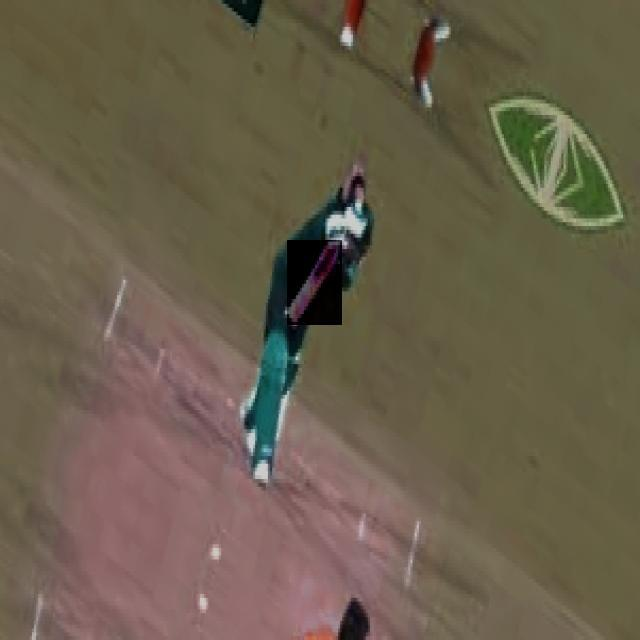bat: (279, 238, 343, 324)
toe: (279, 308, 306, 322)
